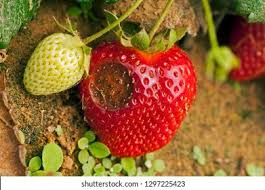ripe: (81, 36, 198, 158), (227, 21, 263, 83)
unripe: (21, 31, 86, 99)
